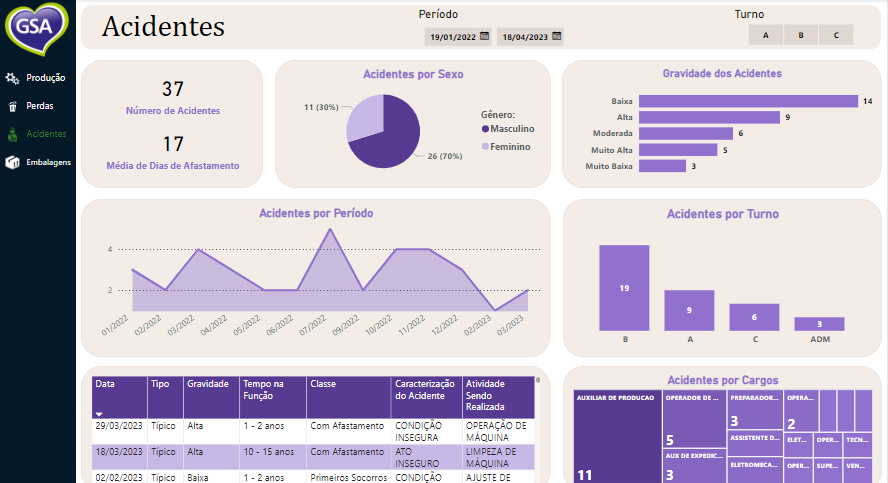

The dashboard page shown, as its layout file describes it:
{"tool":"powerbi","page":{"name":"Acidentes","canvas":[1280,720],"ordinal":2},"visuals":[{"type":"shape","box":[120,8,1152,64],"z":0},{"type":"slicer","title":"Turno","fields":{"Values":["0 - DIM_TURNO.Turno"]},"box":[1056,8,200,64],"z":1000},{"type":"shape","box":[0,0,112,720],"z":2000},{"type":"image","box":[0,0,112,88],"z":3000},{"type":"shape","box":[120,87.8,262.2,184.4],"z":4000},{"type":"card","fields":{"Values":["CountNonNull(2 - FACT_ACIDENTES.Id_Consideracao)"]},"box":[143.3,103.3,215.6,64.4],"z":5000},{"type":"card","fields":{"Values":["Avg(2 - FACT_ACIDENTES.Dias de Afastamento)"]},"box":[143.3,183.3,215.6,64.4],"z":6000},{"type":"pieChart","title":"Acidentes por Sexo","fields":{"Category":["0 - DIM_GENERO.Gênero"],"Y":["CountNonNull(2 - FACT_ACIDENTES.Id_Consideracao)"]},"box":[398.9,87.8,396.7,184.4],"z":7000},{"type":"clusteredBarChart","title":"Gravidade dos Acidentes","fields":{"Category":["2- DIM_ACIDENTES_GRAVIDADE.Gravidade"],"Y":["CountNonNull(2 - FACT_ACIDENTES.Id_Gravidade)"]},"box":[812.2,87.8,460,184.4],"z":8000},{"type":"areaChart","title":"Acidentes por Período","fields":{"Category":["2 - FACT_ACIDENTES.Mes"],"Y":["CountNonNull(2 - FACT_ACIDENTES.Id_Consideracao)"]},"box":[120,287.8,675.6,227.8],"z":9000},{"type":"treemap","title":"Acidentes por Cargos","fields":{"Group":["2 - DIM_ACIDENTES_CARGO.Cargo"],"Values":["CountNonNull(2 - FACT_ACIDENTES.Id_Consideracao)"]},"box":[813.3,528.9,458.9,182.2],"z":10000},{"type":"columnChart","title":"Acidentes por Turno","fields":{"Y":["CountNonNull(2 - FACT_ACIDENTES.Id_Consideracao)"],"Category":["0 - DIM_TURNO.Turno"]},"box":[813.3,287.8,458.9,227.8],"z":11000},{"type":"tableEx","fields":{"Values":["2 - FACT_ACIDENTES.Data de Registro","2 - DIM_ACIDENTES_TIPO.Tipo","2- DIM_ACIDENTES_GRAVIDADE.Gravidade","2 - DIM_ACIDENTES_TEMPOFUNCAO.Tempo na função","2 - DIM_ACIDENTES_CLASSE.Classe","2 - DIM_ACIDENTES_CARACTERIZAÇÃO.Caracterização do Acidente","2 - DIM_ACIDENTES_ATIVIDADE.Atividade sendo Realizada"]},"box":[120,528.9,675.6,182.2],"z":12000},{"type":"textbox","box":[143.3,7.8,230,64.4],"z":13000},{"type":"image","box":[6.1,140,30,30],"z":14000},{"type":"textbox","box":[36,140,75,30],"z":15000},{"type":"image","box":[6,220,30,30],"z":16000},{"type":"textbox","box":[36.1,220,83.9,30],"z":17000},{"type":"image","box":[6,100,30,30],"z":18000},{"type":"textbox","box":[36,100,75,30],"z":19000},{"type":"image","box":[6,180,30,30],"z":20000},{"type":"textbox","box":[36,180,76,30],"z":21000},{"type":"slicer","title":"Período","fields":{"Values":["dCalendario.Column1"]},"box":[600,11,256,64],"z":22000},{"type":"actionButton","box":[4.8,135.9,106.3,32.6],"z":23000},{"type":"actionButton","box":[4.8,218.3,106.3,32.6],"z":24000},{"type":"actionButton","box":[4.8,98.6,106.3,32.6],"z":25000}]}

Visuals, with their boxes on the page's 1280x720 design canvas (x1, y1, x2, y2). These are canvas units, not pixel positions in the 888x483 screenshot, which may show the page scaled, cropped or inside an application window:
shape: 120,8,1272,72
"Turno" slicer: 1056,8,1256,72
shape: 0,0,112,720
image: 0,0,112,88
shape: 120,88,382,272
card - CountNonNull(2 - FACT_ACIDENTES.Id_Consideracao): 143,103,359,168
card - Avg(2 - FACT_ACIDENTES.Dias de Afastamento): 143,183,359,248
"Acidentes por Sexo" pieChart: 399,88,796,272
"Gravidade dos Acidentes" clusteredBarChart: 812,88,1272,272
"Acidentes por Período" areaChart: 120,288,796,516
"Acidentes por Cargos" treemap: 813,529,1272,711
"Acidentes por Turno" columnChart: 813,288,1272,516
tableEx - 2 - FACT_ACIDENTES.Data de Registro x 2 - DIM_ACIDENTES_TIPO.Tipo: 120,529,796,711
textbox: 143,8,373,72
image: 6,140,36,170
textbox: 36,140,111,170
image: 6,220,36,250
textbox: 36,220,120,250
image: 6,100,36,130
textbox: 36,100,111,130
image: 6,180,36,210
textbox: 36,180,112,210
"Período" slicer: 600,11,856,75
actionButton: 5,136,111,168
actionButton: 5,218,111,251
actionButton: 5,99,111,131
